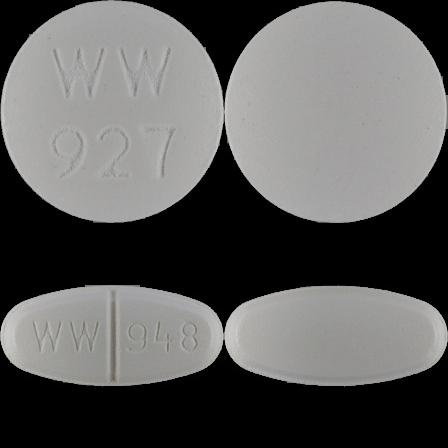0143-9927: (0, 0, 224, 224)
